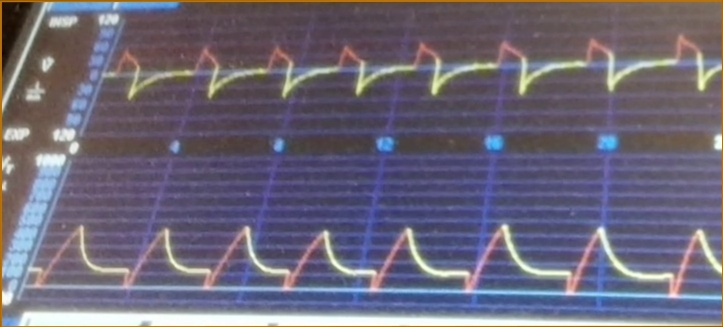Flow: (114, 27, 723, 126)
Leakage Volume: (34, 211, 723, 306)
